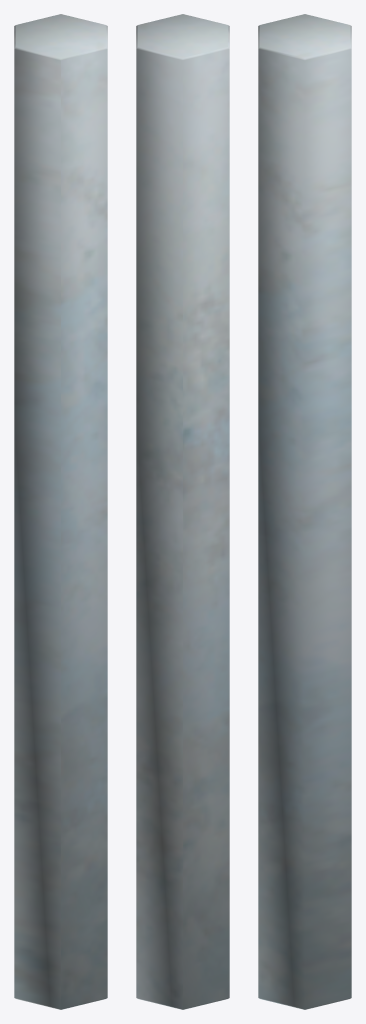
File: P_RockHexic_Piece05.obj
The picture shows the model from 3 angles, left to right: view 1: azimuth 30°, elevation 25°; view 2: azimuth 210°, elevation 25°; view 3: azimuth 330°, elevation 25°; orthographic projection.
Bounding box in the file's own units: 3.6 × 35.03 × 3.12.
